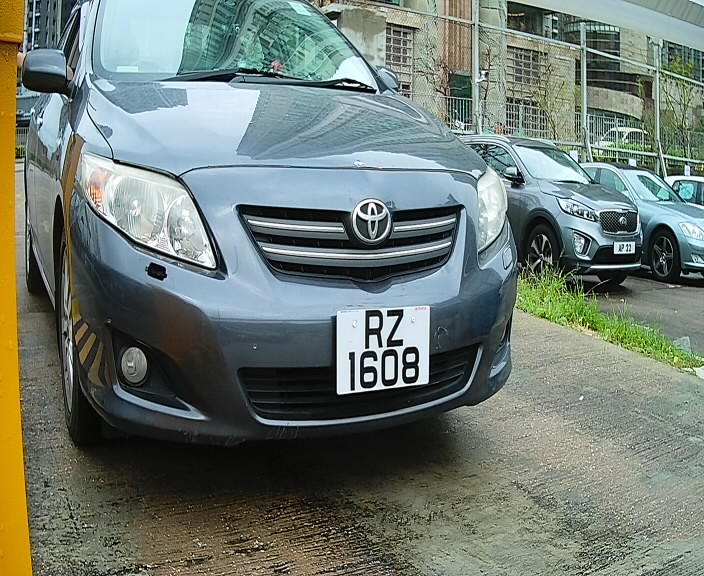Car: (26, 9, 550, 497)
License Plate: (330, 294, 441, 403)
